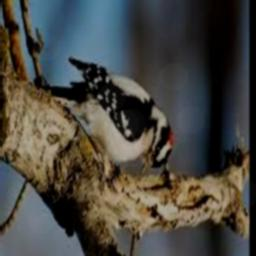Woodpecker: (34, 58, 172, 176)
